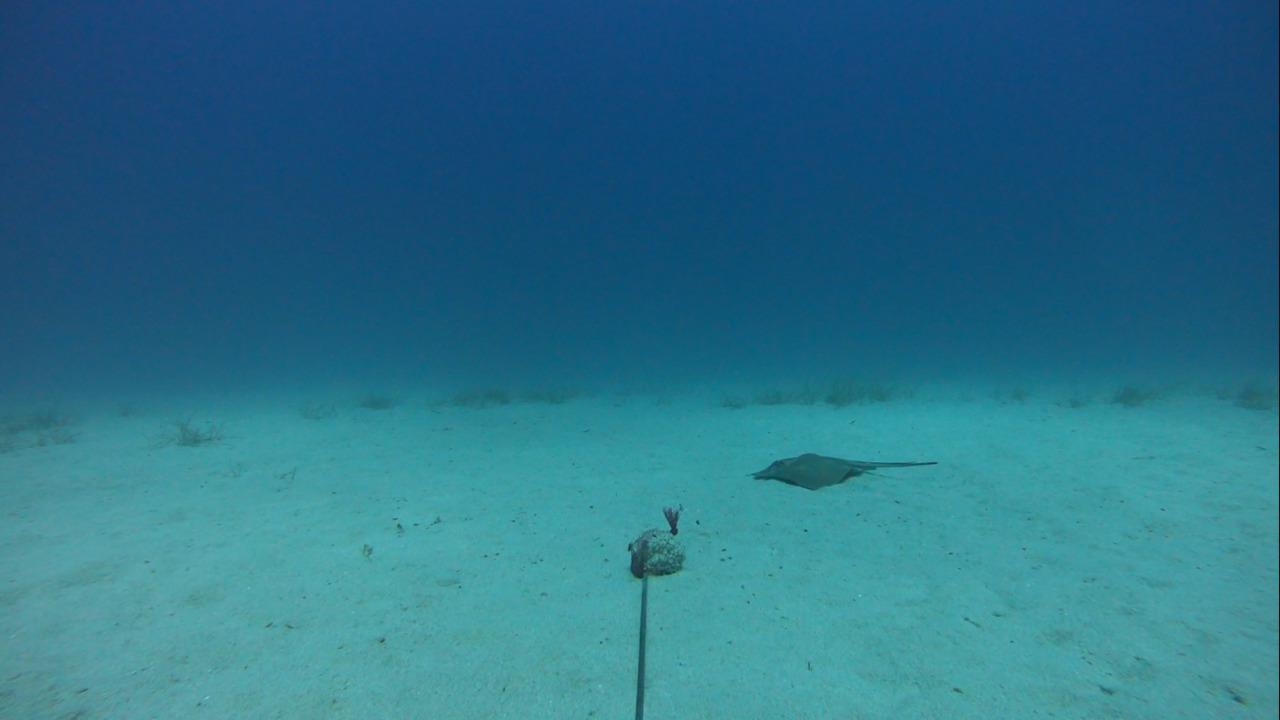myliobatis: (747, 446, 940, 490)
